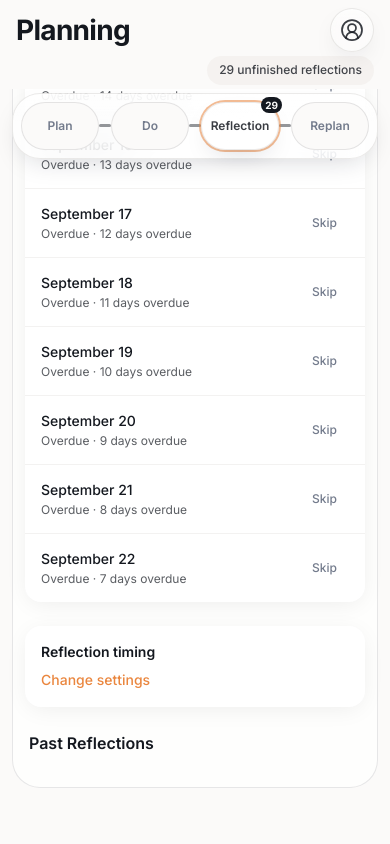
it: Reflection hub › shows at most five completed reflections and can reopen one
The image size is (390, 844).
(page scrolled)
Click the button with test id "reflection-past": (91, 743) [25,731,365,755]
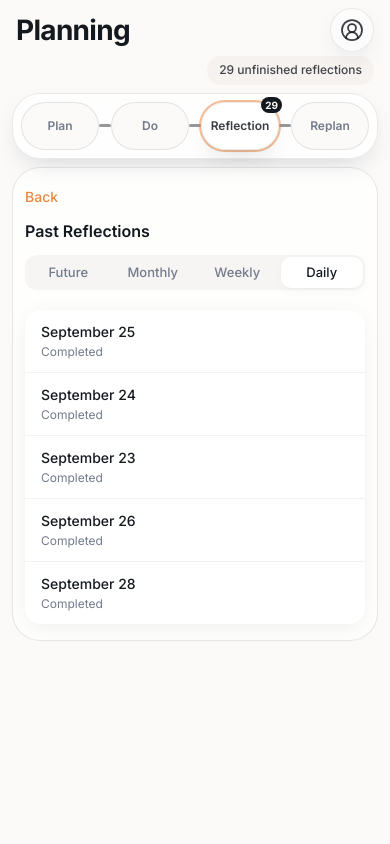
Check: the number of buttons with test id "reflection-past-item" is 5
Click the button with test id "reflection-past-item" showing "September 25 Completed": (88, 332) [25,310,365,372]
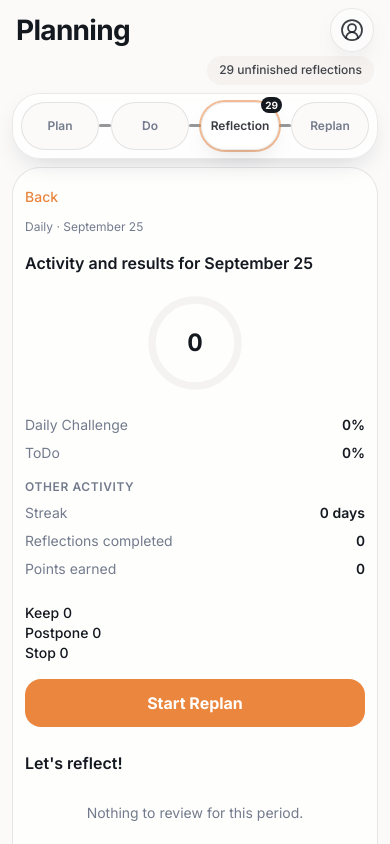
Check: the element with test id "reflection-result" is shown, box [25,602,365,726]
Check: the heading "Let's reflect!" is shown, box [25,752,122,772]
